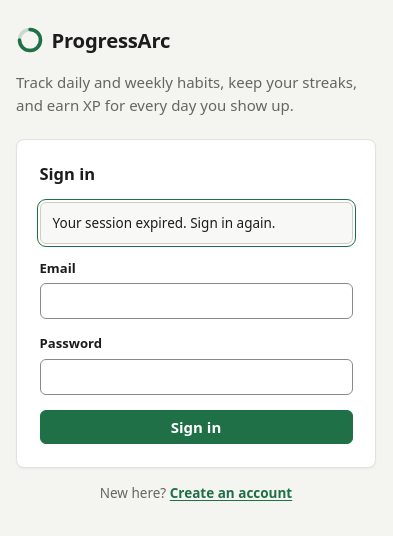
Test case: AuthScreen › does not take focus back when the notice shows again after an error
The width and height of the screenshot is (393, 536).
Type "a@example.com" into the field labelled "Email" at point(196, 302), box [40, 284, 352, 320]
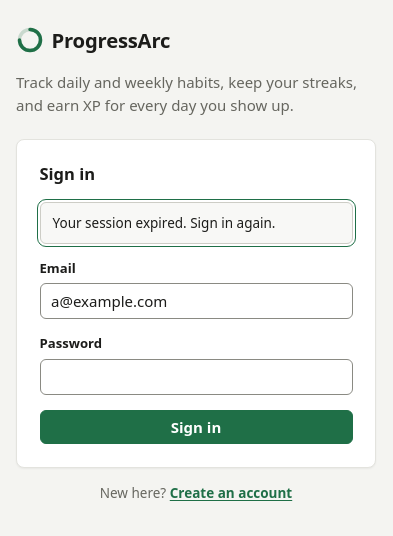
Type "password1" into the password field labelled "Password" at point(196, 377), box [40, 359, 352, 395]
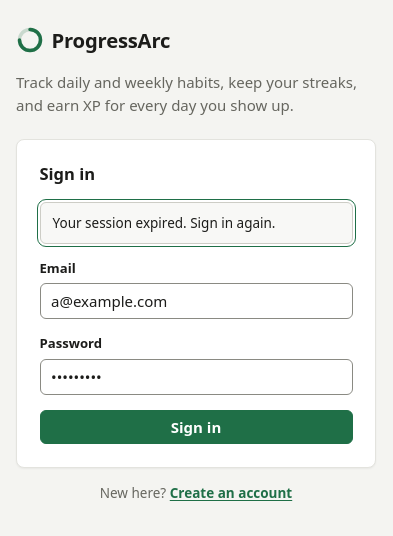
Click the button "Sign in" at point(196, 427), box [40, 410, 352, 444]
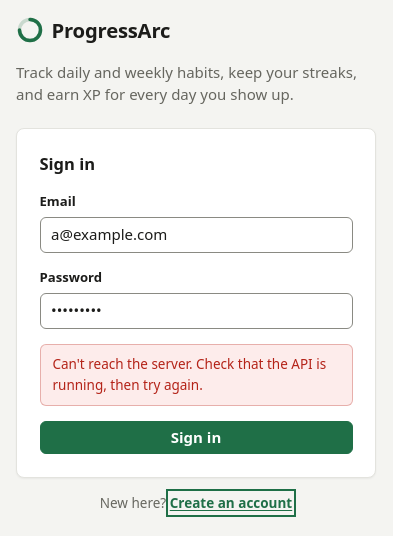
Now the message "Can't reach the server. Check that the API is running, then try again." is shown, box [40, 344, 352, 406]
Click the button "Create an account" at point(231, 503), box [170, 493, 292, 513]
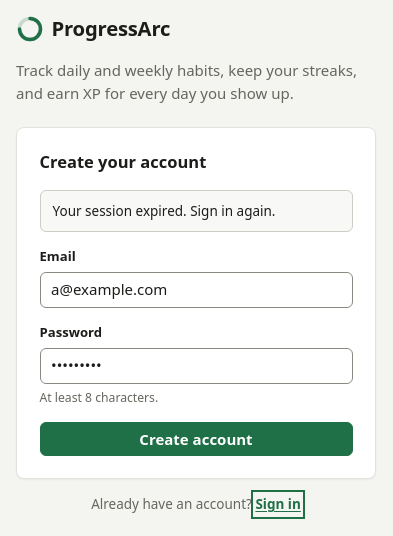
Now the message "Your session expired. Sign in again." is shown, box [40, 190, 352, 232]
